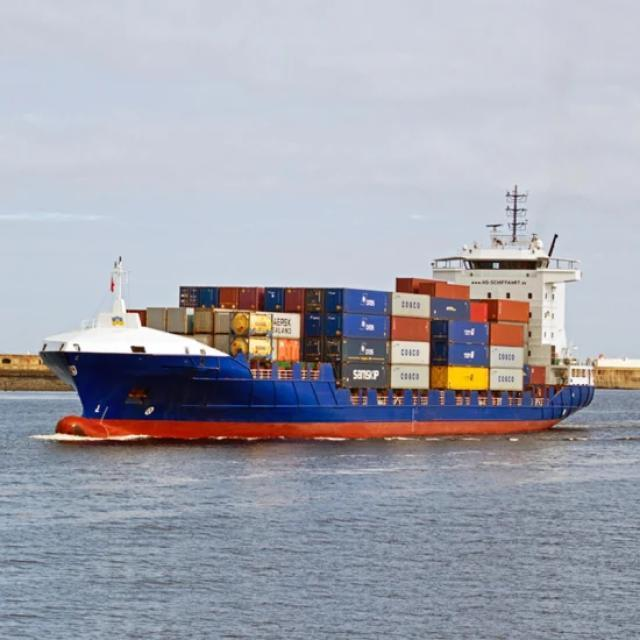Cargo: (39, 186, 594, 440)
